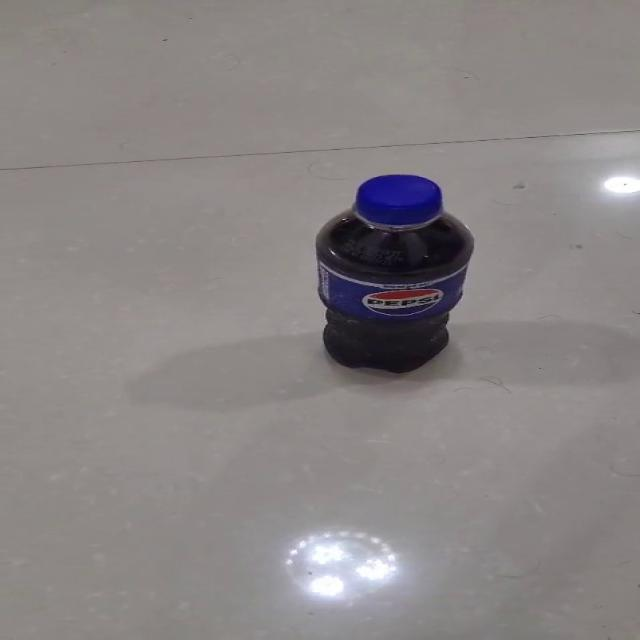plastic: (314, 172, 476, 374)
